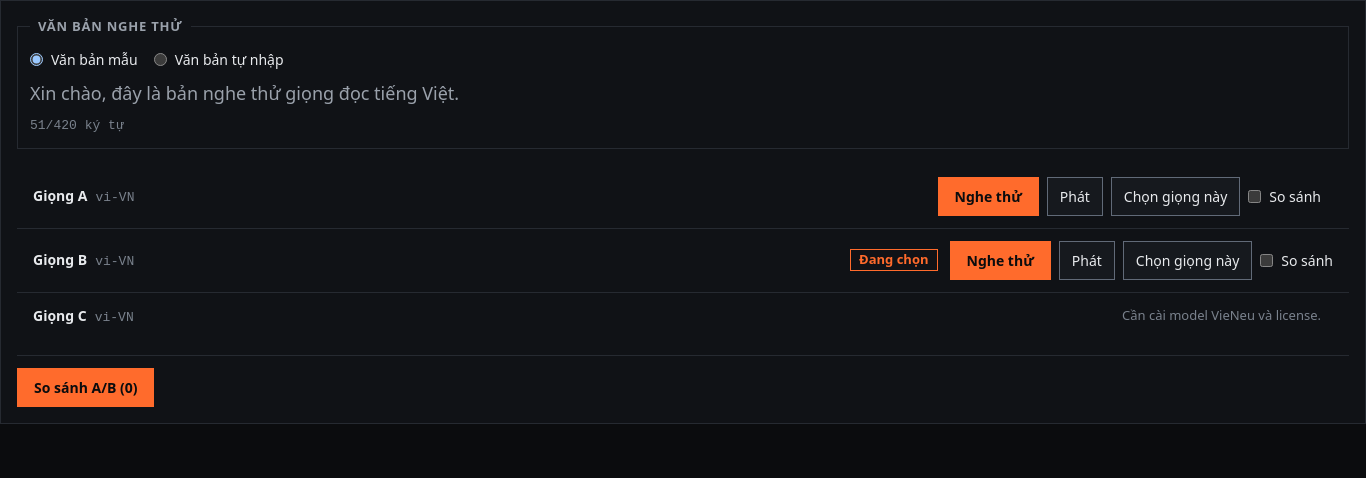
Test: VoicePreviewPanel (A02) › chọn giọng trả về đúng voice ID và giữ nhãn đang chọn
Expected: the text "Đang chọn" is shown, [850, 249, 938, 271]
Step 1. Click the button "Chọn giọng này" in the row of "Giọng A" → (1176,196), box [1111, 177, 1240, 216]
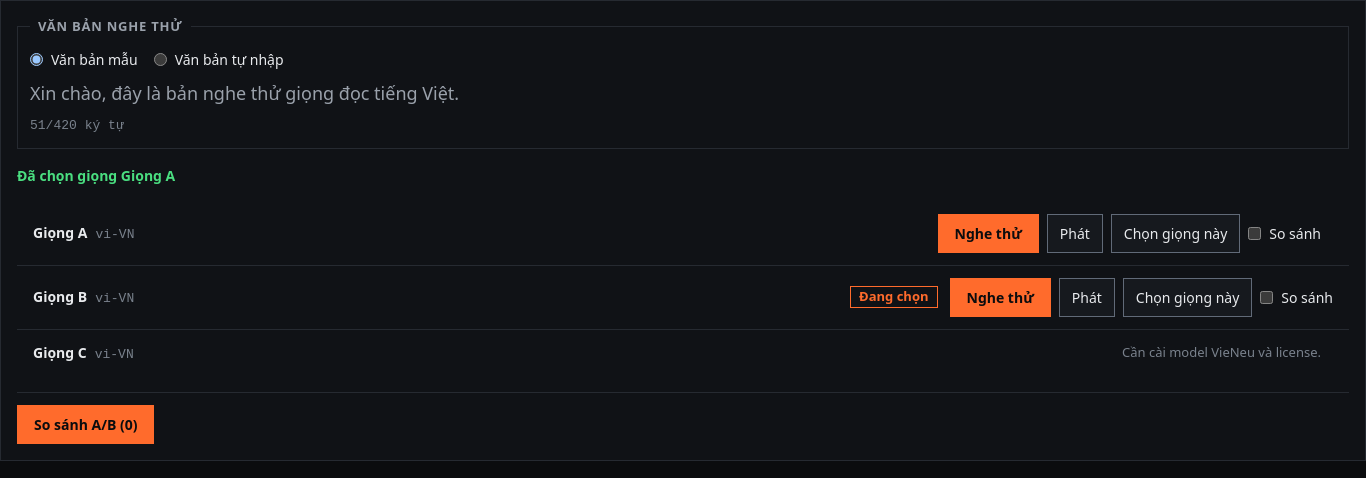
Now the text "Đã chọn giọng Giọng A" is shown, box [17, 166, 175, 185]
